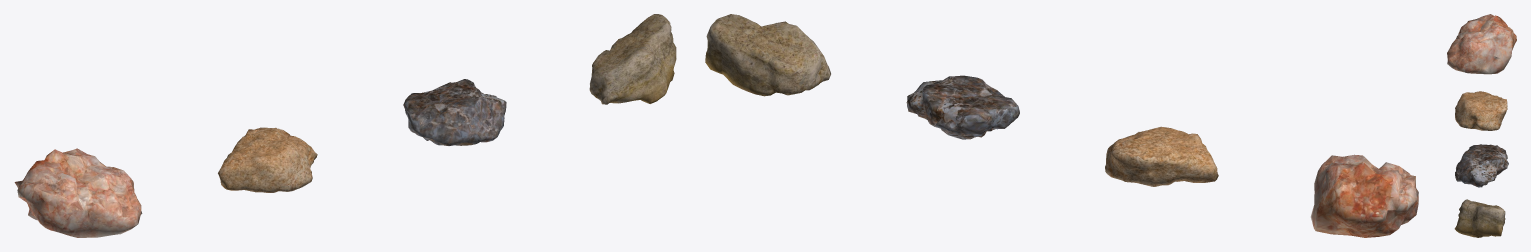
The model's file is namaqualand_rocks_01.glb.
3 renders of one model, left to right at view 1: azimuth 30°, elevation 25°; view 2: azimuth 150°, elevation 25°; view 3: azimuth 270°, elevation 25°, orthographic. The views are drawn at different scales.
Visible parts, largest first — view 1: namaqualand_rocks_02_a, namaqualand_rocks_02_d, namaqualand_rocks_02_c, namaqualand_rocks_02_b; view 2: namaqualand_rocks_02_d, namaqualand_rocks_02_a, namaqualand_rocks_02_b, namaqualand_rocks_02_c; view 3: namaqualand_rocks_02_a, namaqualand_rocks_02_b, namaqualand_rocks_02_c, namaqualand_rocks_02_d.
Part boxes in pixels (x1=…): namaqualand_rocks_02_a: x1=14, y1=148, x2=142, y2=237; namaqualand_rocks_02_d: x1=589, y1=14, x2=676, y2=104; namaqualand_rocks_02_c: x1=403, y1=79, x2=506, y2=145; namaqualand_rocks_02_b: x1=218, y1=127, x2=317, y2=192; namaqualand_rocks_02_d: x1=705, y1=14, x2=830, y2=96; namaqualand_rocks_02_a: x1=1310, y1=154, x2=1418, y2=237; namaqualand_rocks_02_b: x1=1105, y1=126, x2=1218, y2=186; namaqualand_rocks_02_c: x1=906, y1=75, x2=1019, y2=139; namaqualand_rocks_02_a: x1=1447, y1=14, x2=1516, y2=74; namaqualand_rocks_02_b: x1=1455, y1=91, x2=1507, y2=130; namaqualand_rocks_02_c: x1=1455, y1=144, x2=1508, y2=187; namaqualand_rocks_02_d: x1=1454, y1=199, x2=1505, y2=237.
Bounding box in the file's own units: 1.45 × 0.1534 × 0.2153.
Materials: 1 (1 with a texture image).
